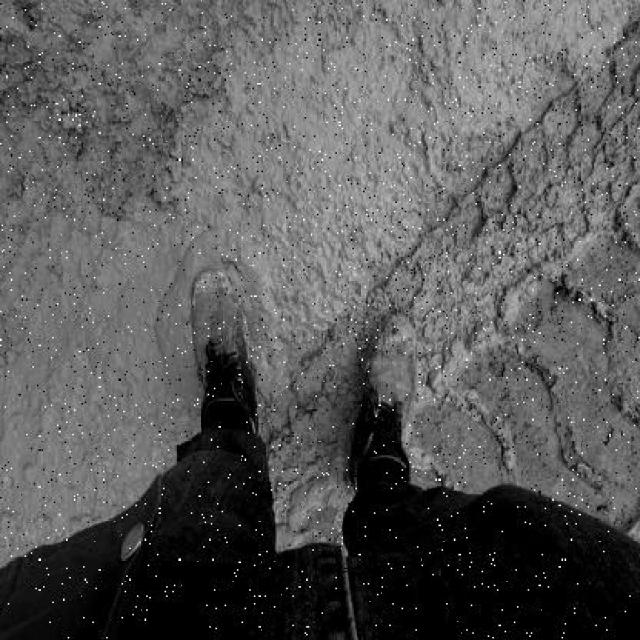shoes: (186, 271, 262, 423), (362, 321, 428, 490)
